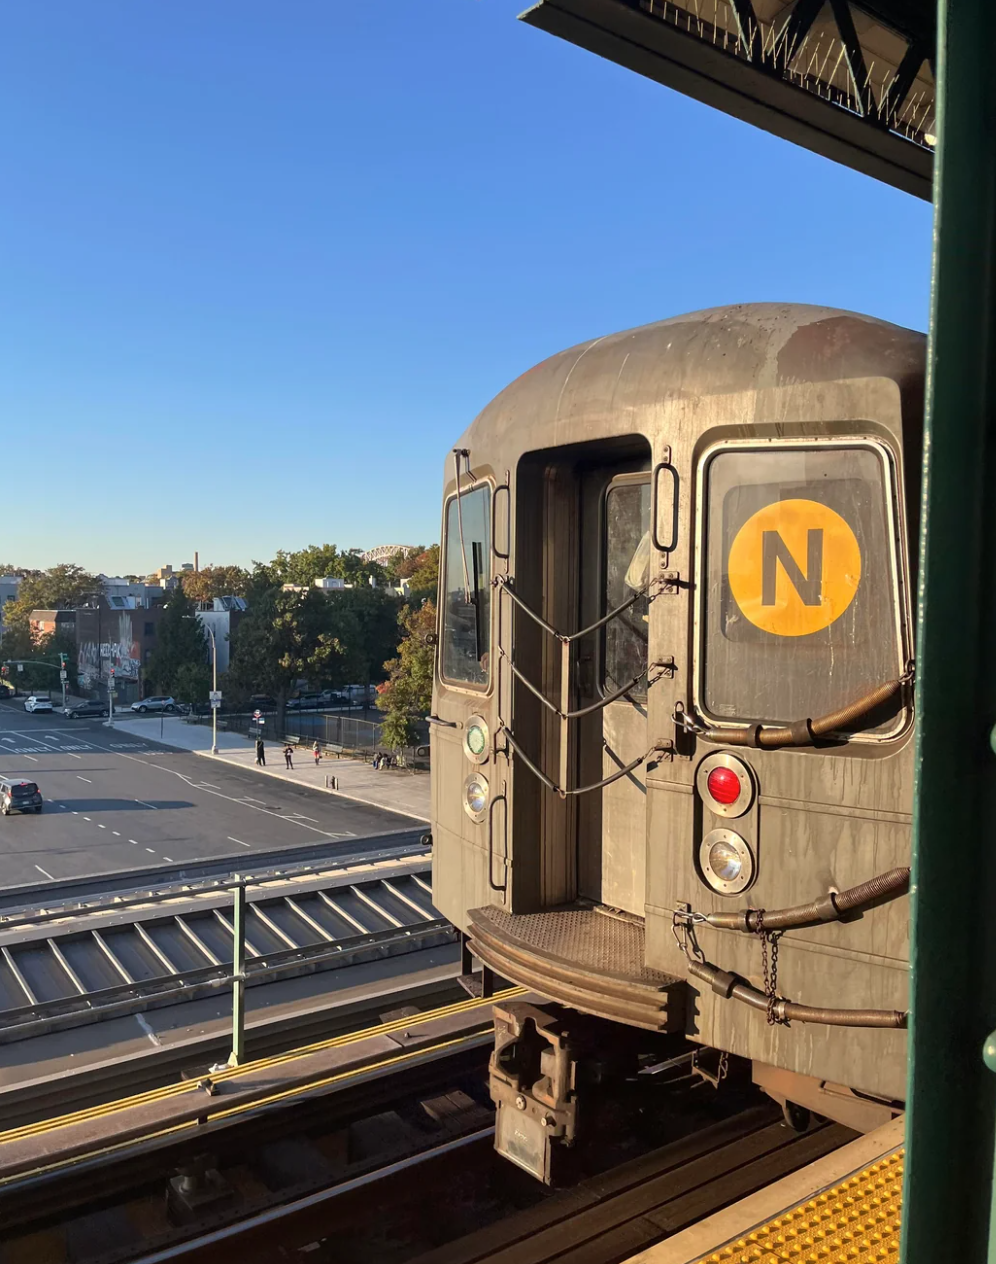train: (422, 303, 910, 1090)
